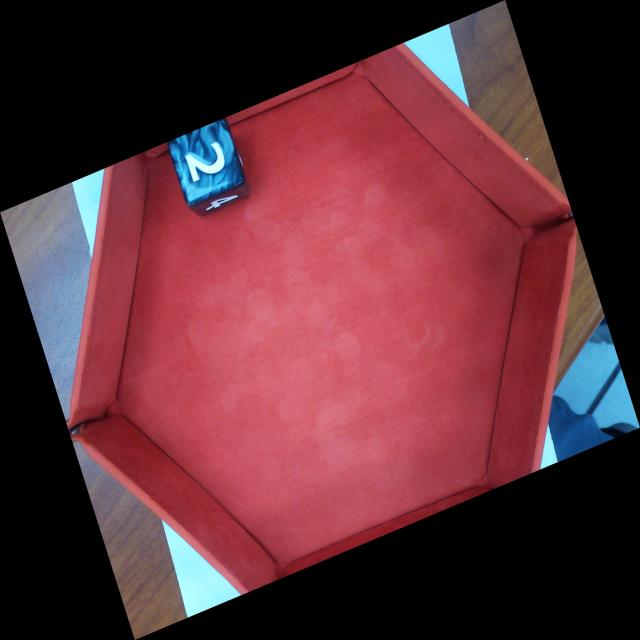dice: (167, 117, 249, 211)
